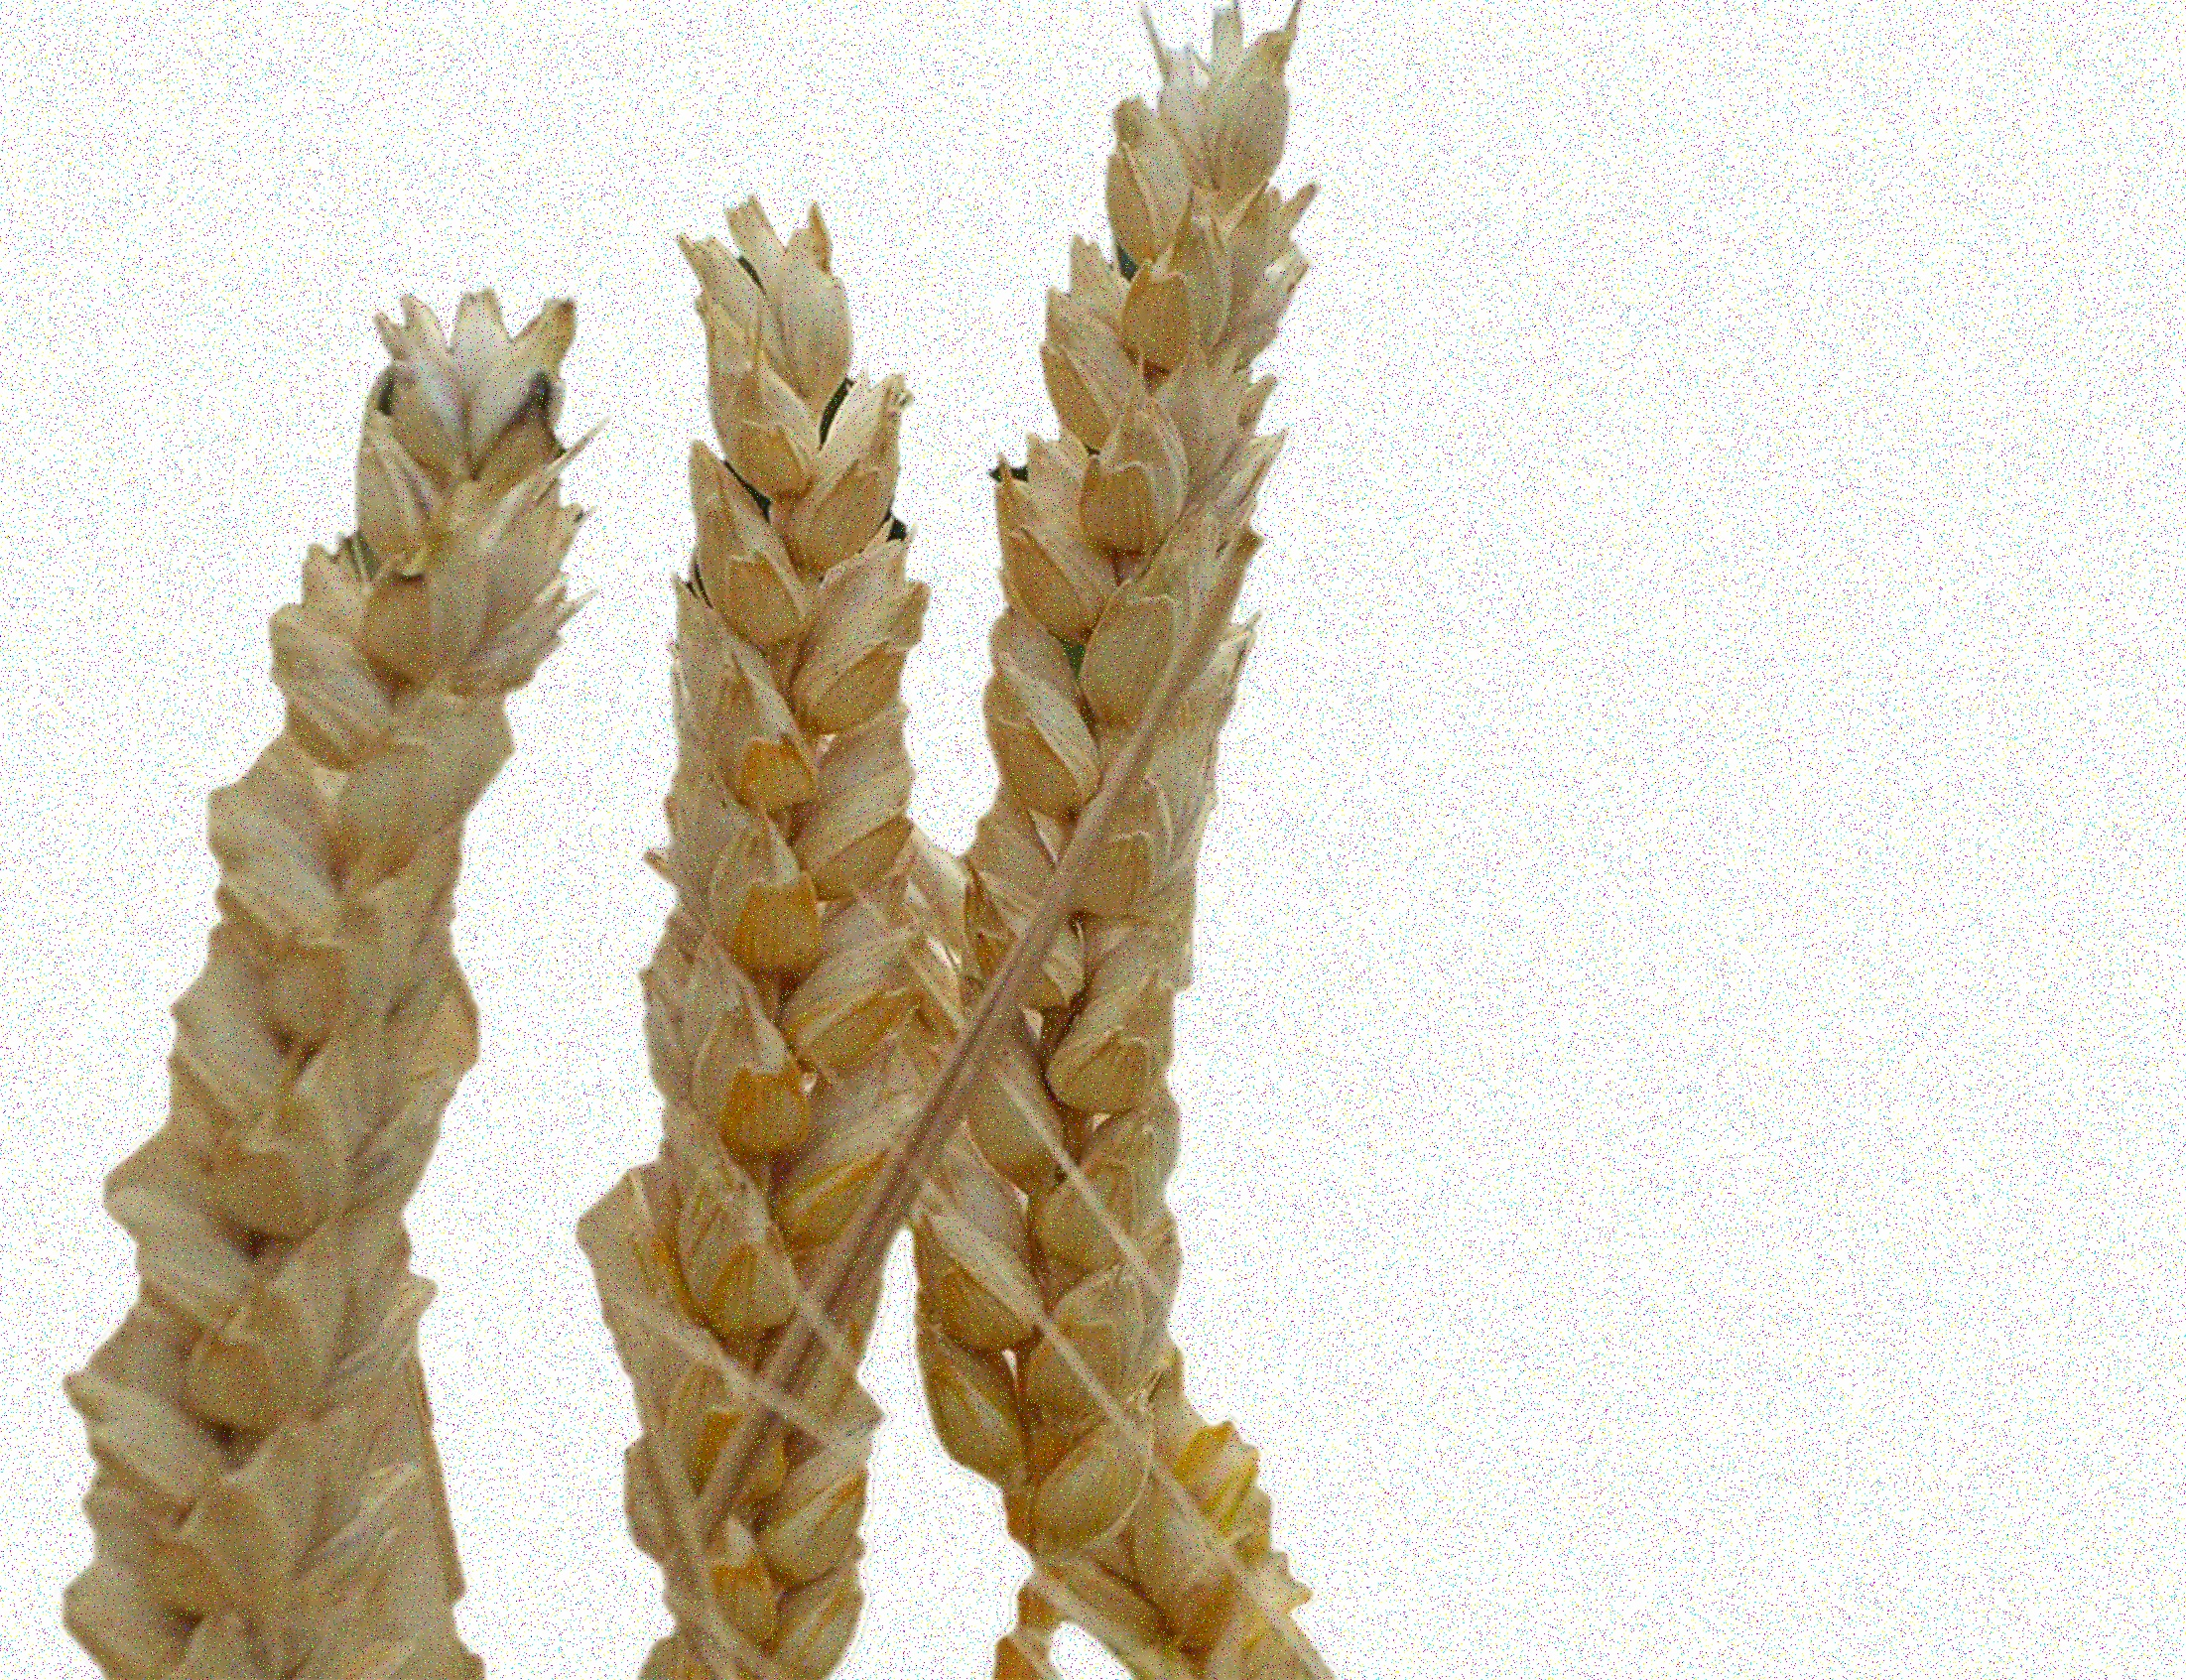wheat: (39, 279, 573, 1676), (947, 11, 1344, 1659), (598, 139, 942, 1673)
